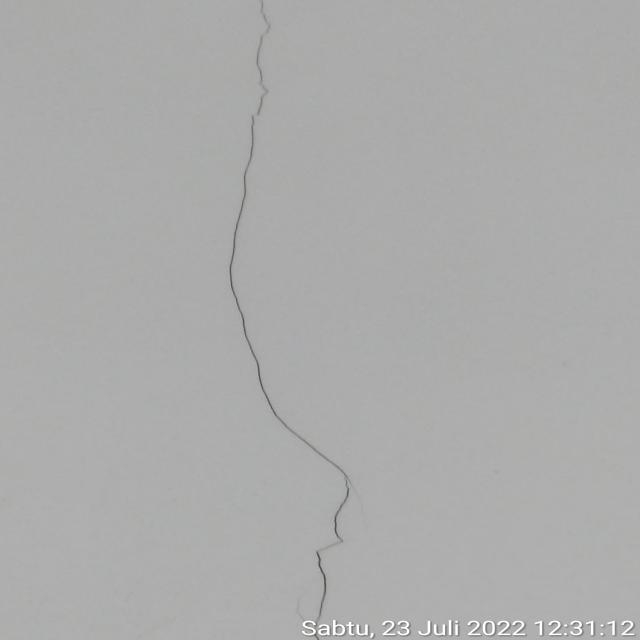Crack: (273, 423, 363, 488), (234, 360, 296, 421), (298, 491, 358, 554), (302, 560, 344, 632), (226, 291, 264, 355), (236, 116, 266, 192), (224, 199, 250, 285), (243, 55, 275, 113), (249, 0, 277, 48)
